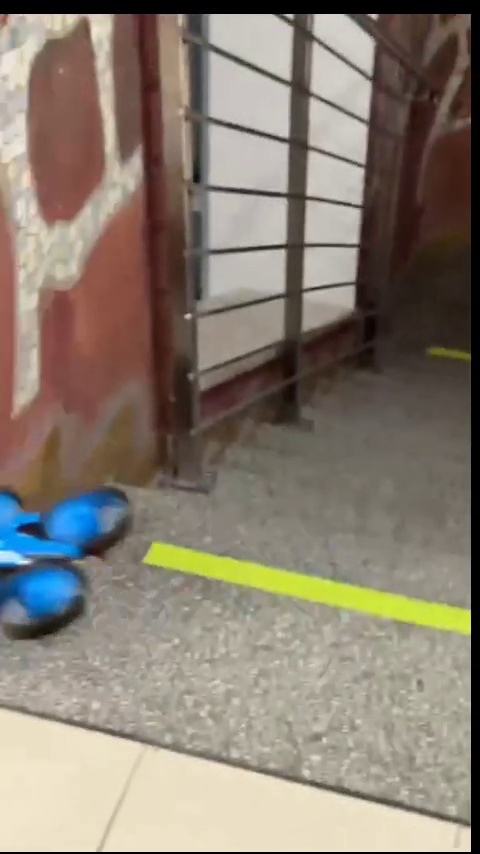drone: (0, 488, 137, 644)
